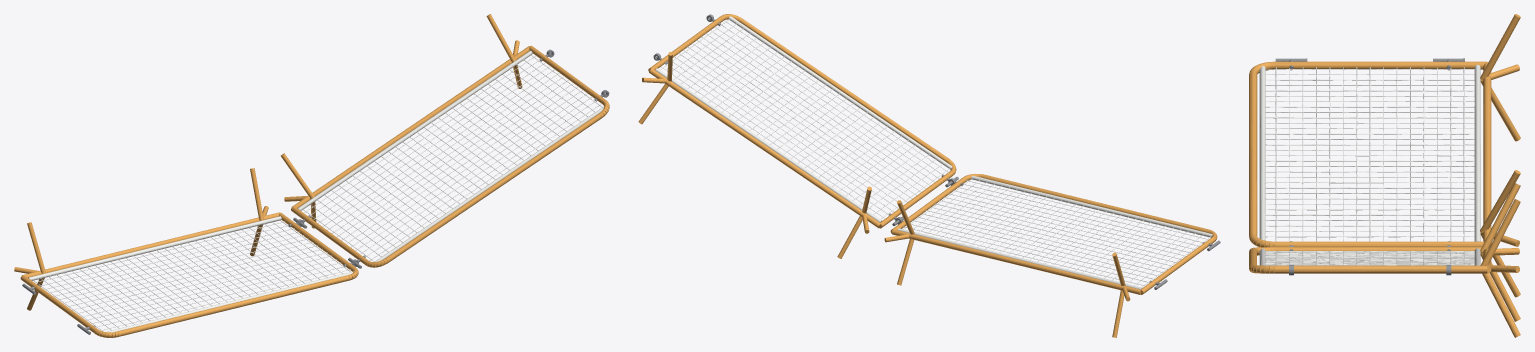
The model's file is material-panel_infill-white-enamel-infill.glb.
The picture shows the model from 3 angles, left to right: view 1: azimuth 30°, elevation 25°; view 2: azimuth 150°, elevation 25°; view 3: azimuth 270°, elevation 25°; orthographic projection. The views are drawn at different scales.
Parts seen in each view (by area): view 1: panel_0__infill, panel_0__frame, panel_0__eye_top; view 2: panel_0__infill, panel_0__frame, panel_0__eye_top; view 3: panel_0__infill, panel_0__frame, panel_0__eye_top.
Boxes of the visible parts, x1=… form: panel_0__infill: x1=28, y1=50, x2=604, y2=332; panel_0__frame: x1=14, y1=14, x2=609, y2=337; panel_0__eye_top: x1=22, y1=49, x2=609, y2=334; panel_0__infill: x1=655, y1=16, x2=1212, y2=289; panel_0__frame: x1=638, y1=14, x2=1217, y2=337; panel_0__eye_top: x1=653, y1=14, x2=1220, y2=289; panel_0__infill: x1=1259, y1=65, x2=1480, y2=265; panel_0__frame: x1=1249, y1=14, x2=1520, y2=337; panel_0__eye_top: x1=1275, y1=58, x2=1464, y2=275.
Size of the model in its own units: 4.09 by 1.37 by 1.28.
